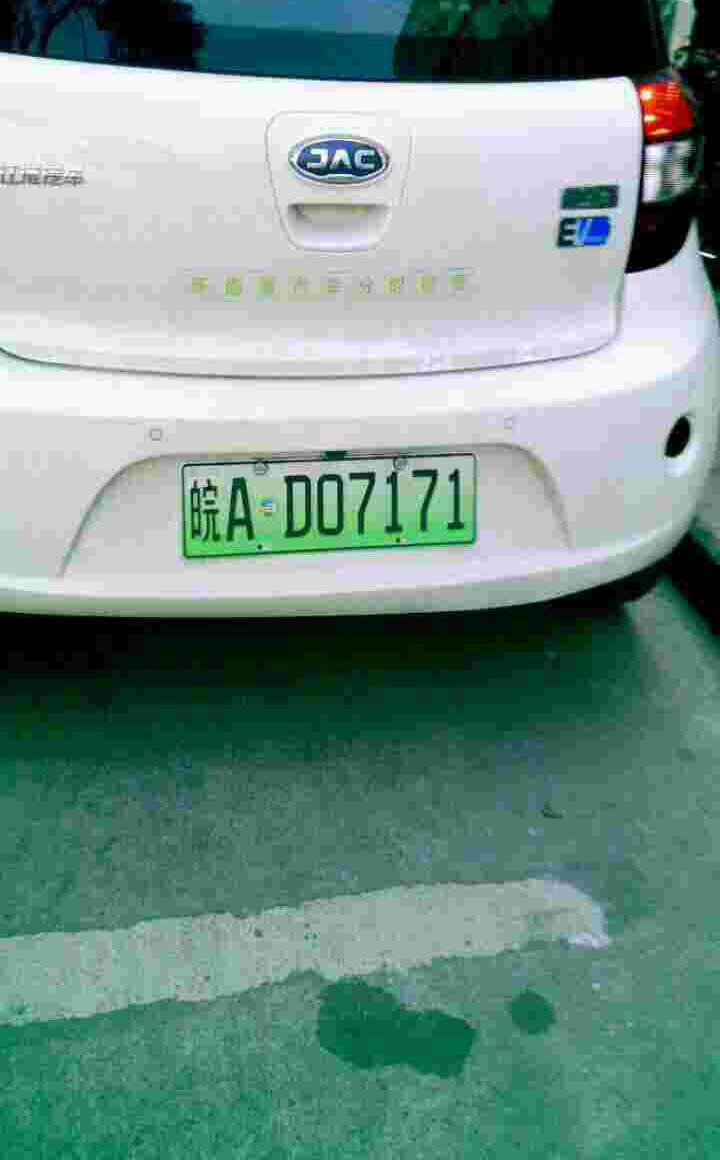car_id: (180, 454, 477, 554)
